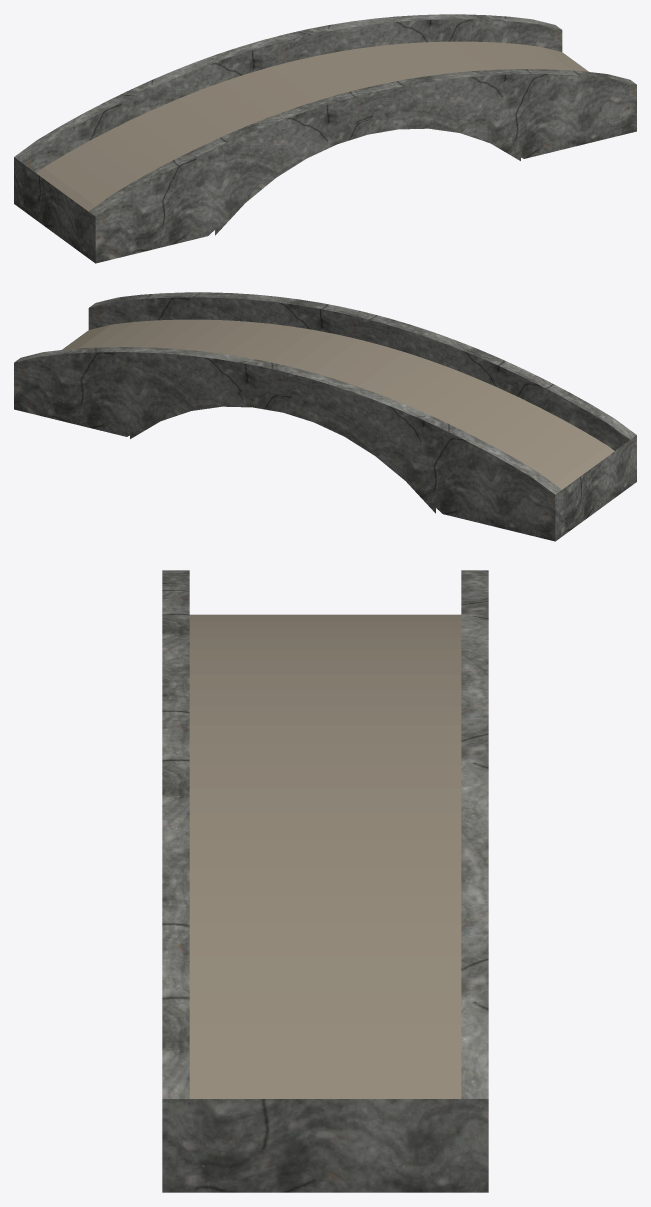
The model's file is gapstow_bridge.glb.
3 views of the same model, one above another, from view 1: azimuth 30°, elevation 25°; view 2: azimuth 150°, elevation 25°; view 3: azimuth 270°, elevation 25° (orthographic). The views are drawn at different scales.
Visible parts, largest first — view 1: gapstow_bridge; view 2: gapstow_bridge; view 3: gapstow_bridge.
Part boxes in pixels (box(x1,y1,x2,y2)): gapstow_bridge: box(14, 14, 636, 263); gapstow_bridge: box(14, 292, 636, 541); gapstow_bridge: box(162, 570, 488, 1192).
Bounding box in the file's own units: 23 × 4.2 × 6.24.
Materials: 2 (2 with a texture image).
